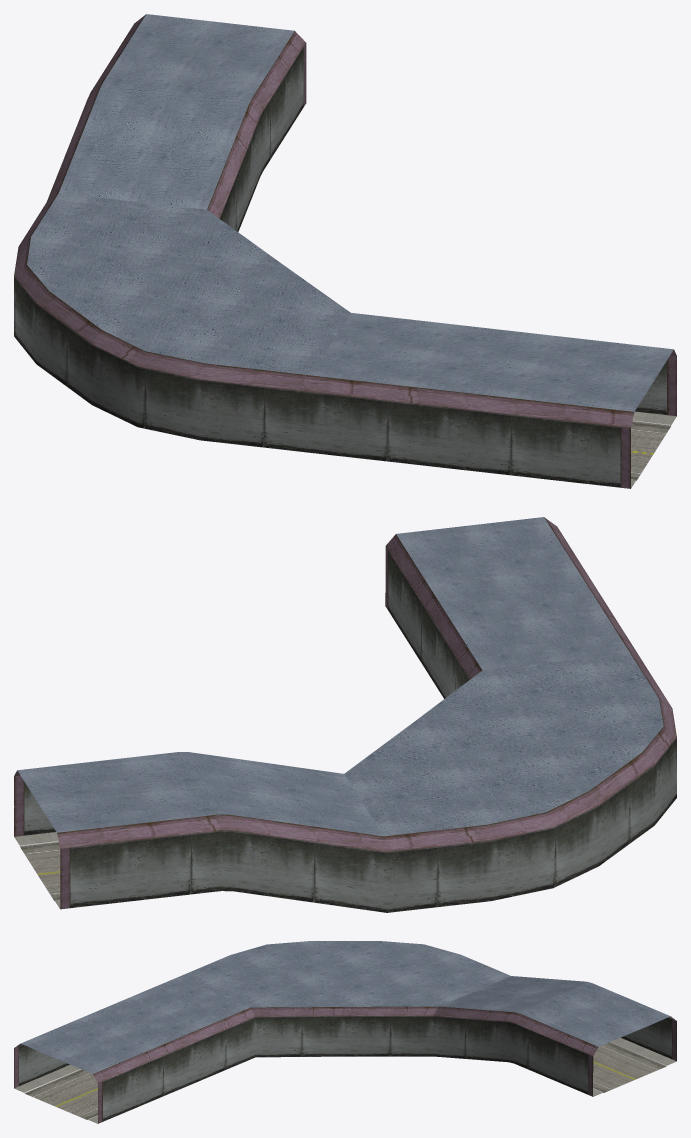
The model's file is STG0100_OS_15.fbx.
The picture shows the model from 3 angles, top to bottom: view 1: azimuth 30°, elevation 25°; view 2: azimuth 150°, elevation 25°; view 3: azimuth 270°, elevation 25°; orthographic projection. The views are drawn at different scales.
Visible parts, largest first — view 1: STG0100_OS_15_s0100_nn003; view 2: STG0100_OS_15_s0100_nn003; view 3: STG0100_OS_15_s0100_nn003.
Boxes of the visible parts, x1,y1,x2,y2 form: STG0100_OS_15_s0100_nn003: [14, 14, 676, 488]; STG0100_OS_15_s0100_nn003: [14, 517, 676, 912]; STG0100_OS_15_s0100_nn003: [14, 941, 676, 1123].
Bounding box in the file's own units: 444 × 112 × 893.
